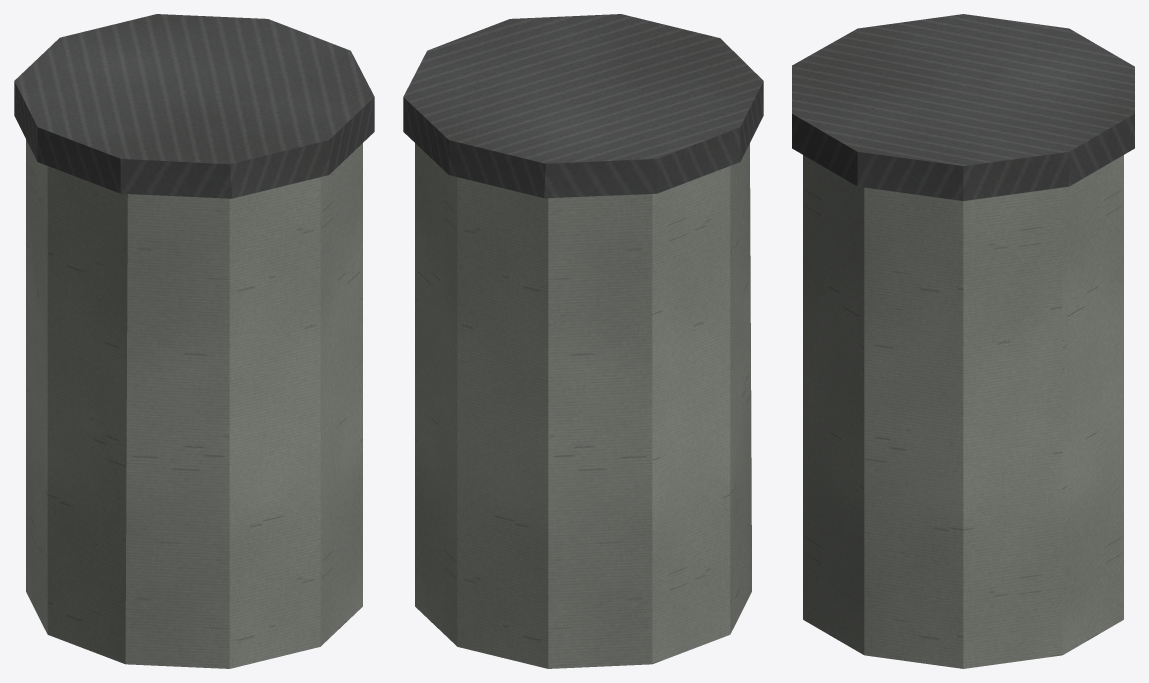
File: trashcan_v3.glb
The picture shows the model from 3 angles, left to right: view 1: azimuth 30°, elevation 25°; view 2: azimuth 150°, elevation 25°; view 3: azimuth 270°, elevation 25°; orthographic projection.
Parts seen in each view (by area): view 1: Variant_trashcan_3; view 2: Variant_trashcan_3; view 3: Variant_trashcan_3.
Part boxes in pixels (left/top/right/bottom): Variant_trashcan_3: left=14, top=14, right=374, bottom=668; Variant_trashcan_3: left=403, top=14, right=763, bottom=668; Variant_trashcan_3: left=792, top=14, right=1134, bottom=668.
Size of the model in its own units: 0.47 by 0.73 by 0.447.
2 materials, 2 textured.
